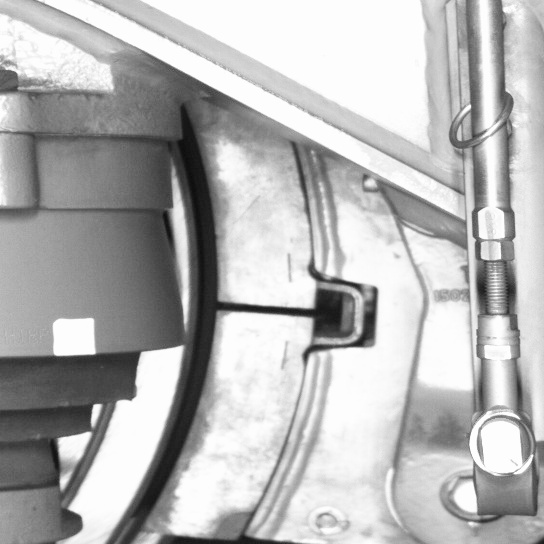KnifeSwitch: (103, 138, 333, 543)
